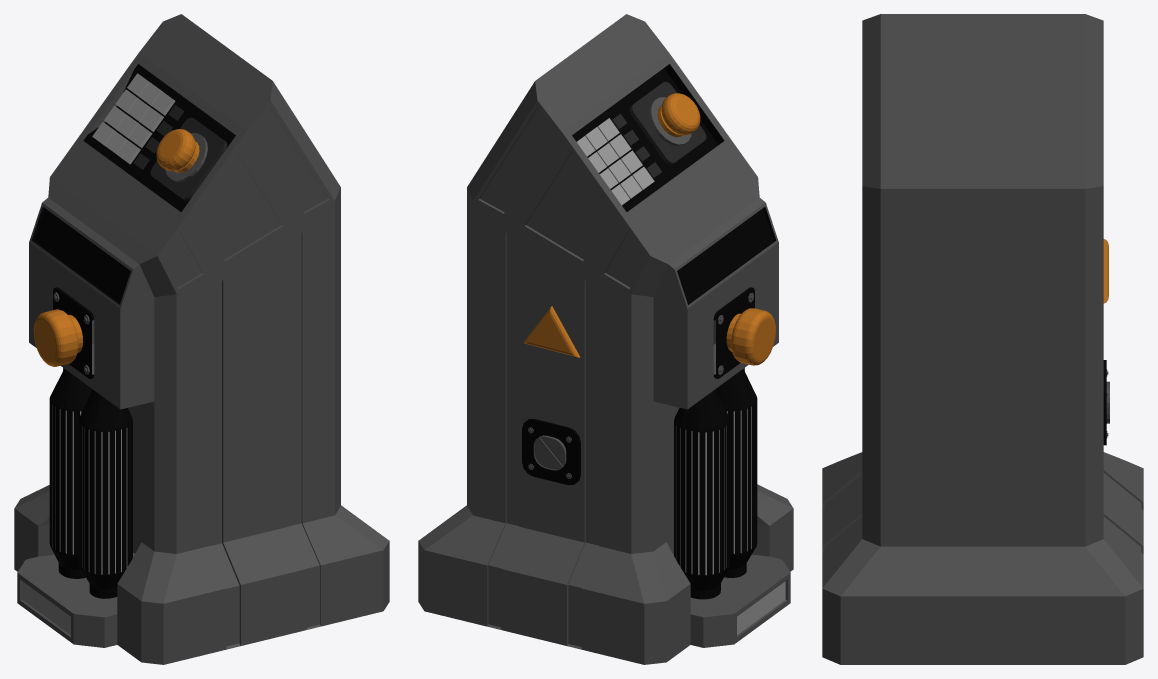
The model's file is terminal1.fbx.
3 renders of one model, left to right at view 1: azimuth 30°, elevation 25°; view 2: azimuth 150°, elevation 25°; view 3: azimuth 270°, elevation 25°, orthographic. The views are drawn at different scales.
Visible parts, largest first — view 1: terminal1; view 2: terminal1; view 3: terminal1.
Part boxes in pixels (x1,y1,x2,y2): terminal1: [14, 14, 389, 664]; terminal1: [418, 14, 793, 664]; terminal1: [822, 14, 1143, 664].
Size of the model in its own units: 2.27 by 2 by 4.1.
